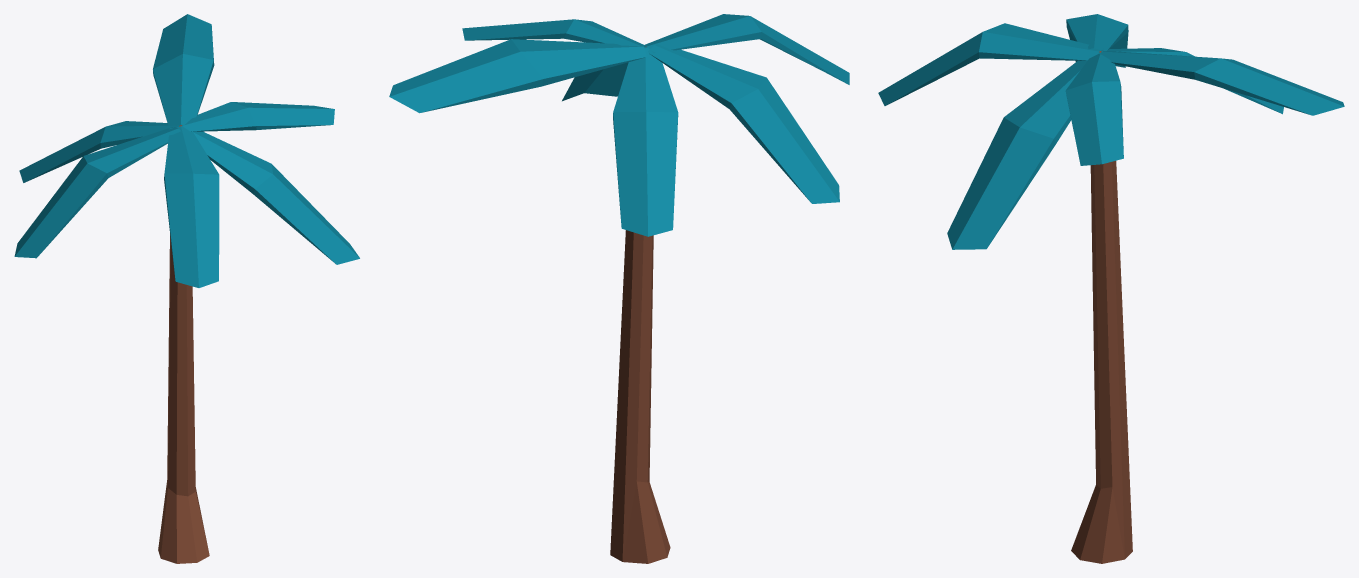
The model's file is Tree_39_summer_blue_mat.fbx.
The picture shows the model from 3 angles, left to right: view 1: azimuth 30°, elevation 25°; view 2: azimuth 150°, elevation 25°; view 3: azimuth 270°, elevation 25°; orthographic projection. The views are drawn at different scales.
Visible parts, largest first — view 1: Tree_39_summer_blue_mat; view 2: Tree_39_summer_blue_mat; view 3: Tree_39_summer_blue_mat.
Boxes of the visible parts, box(x1,y1,x2,y2) form: Tree_39_summer_blue_mat: box(14, 14, 359, 563); Tree_39_summer_blue_mat: box(389, 14, 849, 563); Tree_39_summer_blue_mat: box(878, 14, 1344, 563).
Size of the model in its own units: 152 by 204 by 166.
